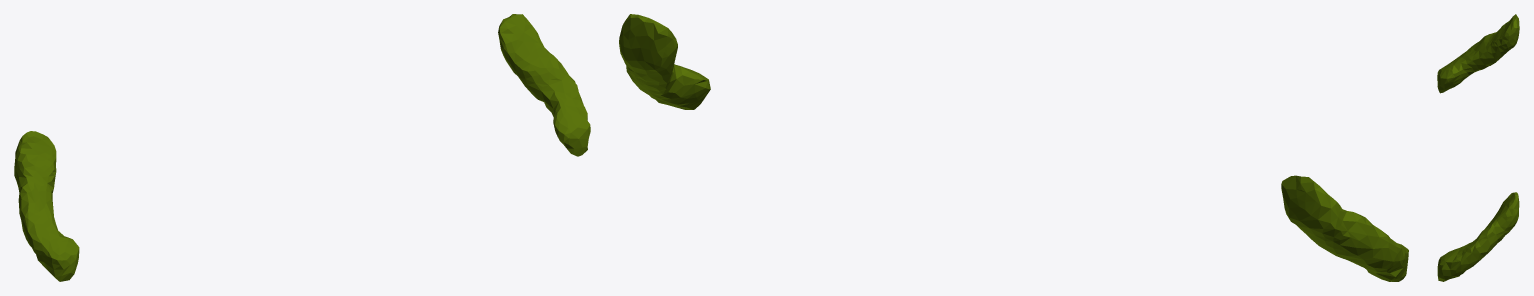
The model's file is 164-AKL-auditory koniocortex, lateral part-('0.3804', '0.4980', '0.0000').obj.
The picture shows the model from 3 angles, left to right: view 1: azimuth 30°, elevation 25°; view 2: azimuth 150°, elevation 25°; view 3: azimuth 270°, elevation 25°; orthographic projection. The views are drawn at different scales.
Size of the model in its own units: 330 by 62.03 by 56.31.
